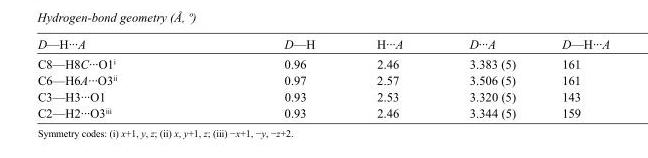table: (36, 37, 609, 119)
table column: (36, 37, 200, 119), (200, 37, 345, 119), (435, 37, 538, 119), (345, 37, 435, 119), (538, 37, 609, 119)
table row: (36, 53, 609, 71), (36, 71, 609, 88), (36, 37, 609, 53), (36, 88, 609, 104), (36, 104, 609, 119)
